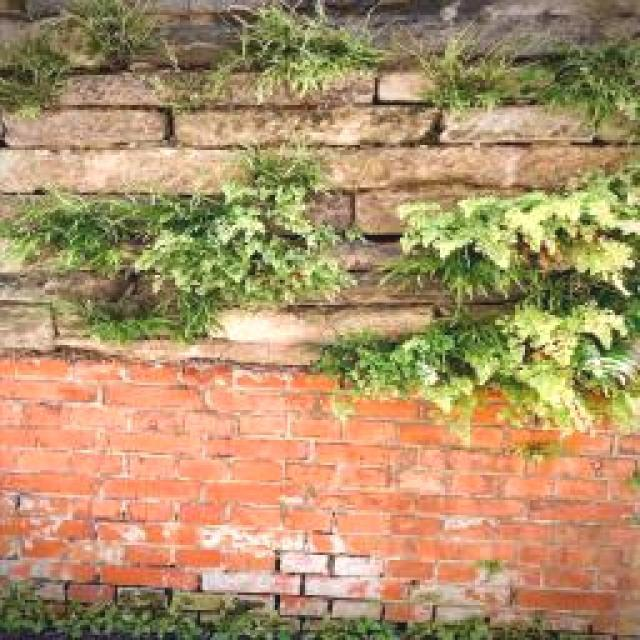vegetation: (310, 165, 638, 452), (0, 135, 364, 343), (7, 7, 637, 118)
